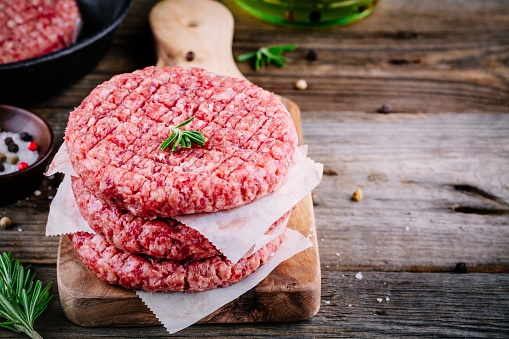ground_beef: (85, 64, 279, 219), (68, 148, 300, 275), (1, 4, 87, 53)
